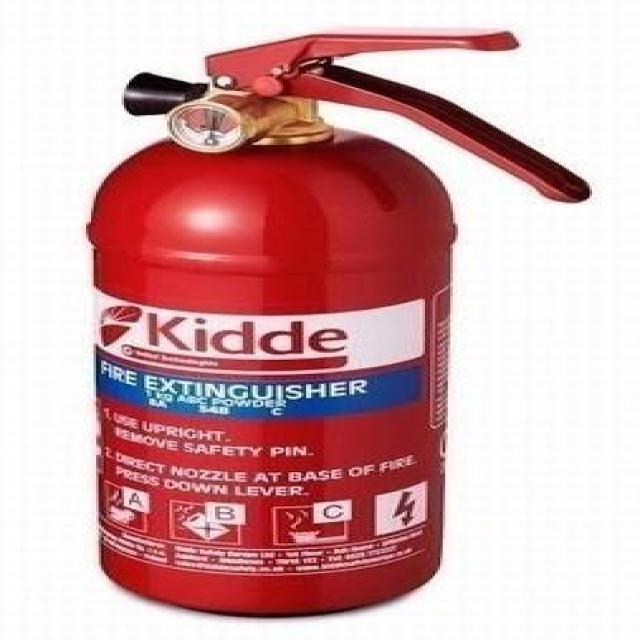fire_extinguisher: (77, 20, 593, 621)
